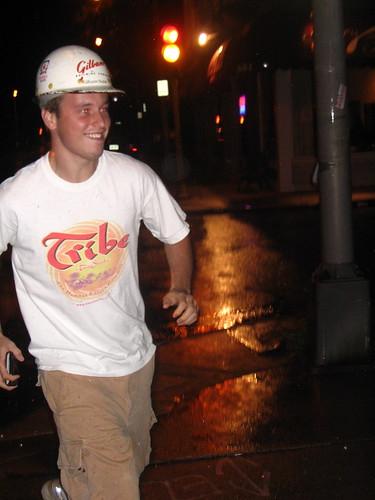person hardhat: (1, 35, 202, 500)
